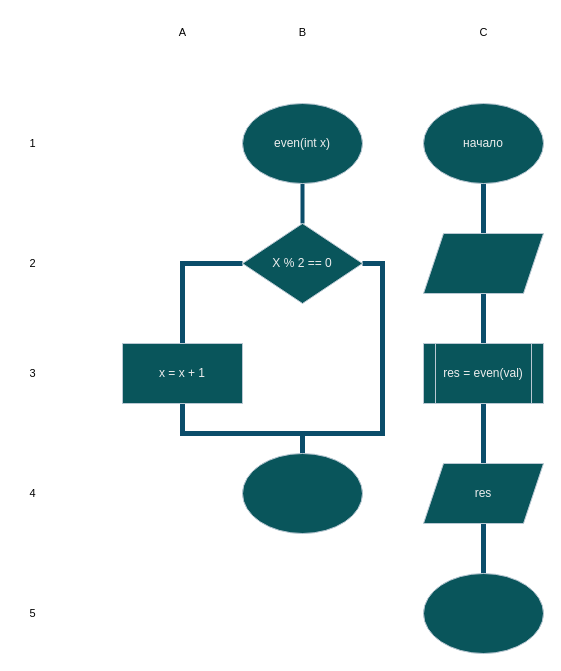
Image size: 561x671. Some labels were removed from this diagram. The shapes that lost their labels are listed below. From the top down, each one's centre as x and y in pixels, then its label:
the point at 483,263: val
the point at 302,493: return x
the point at 483,613: конец
